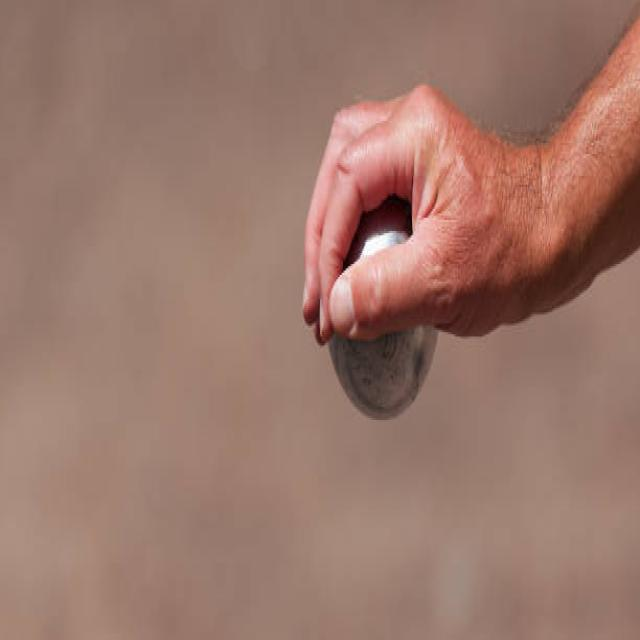petanque: (325, 197, 441, 426)
